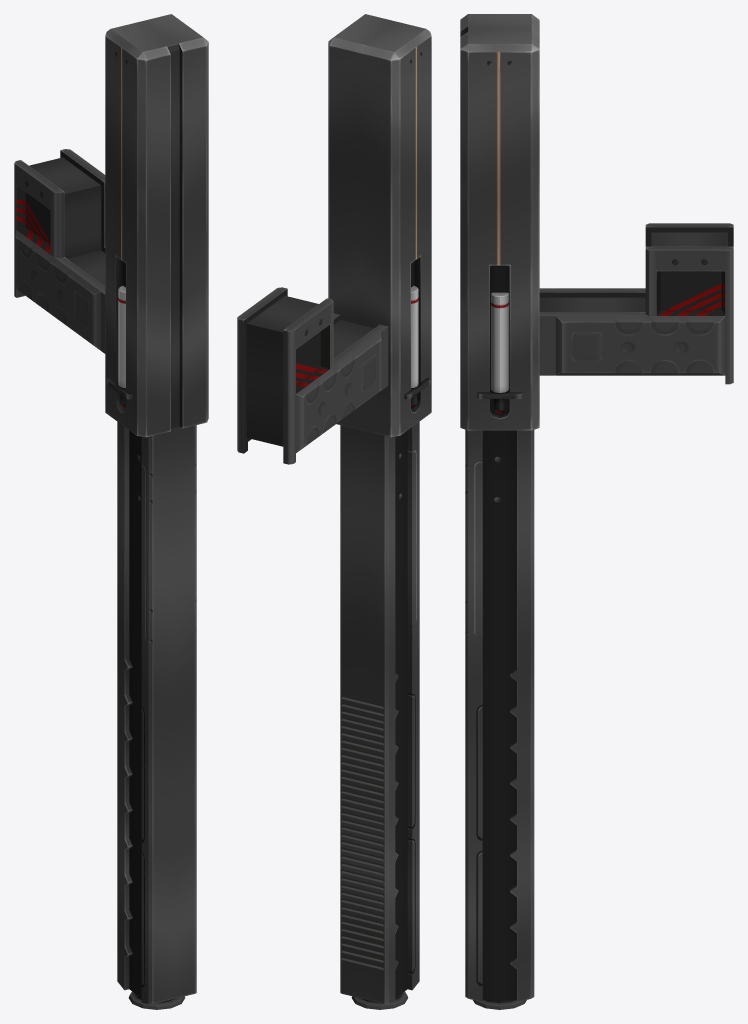
File: saria_weapon.fbx
3 views of the same model, side by side, from view 1: azimuth 30°, elevation 25°; view 2: azimuth 150°, elevation 25°; view 3: azimuth 270°, elevation 25° (orthographic).
Parts seen in each view (by area): view 1: weapon; view 2: weapon; view 3: weapon.
Boxes of the visible parts, x1,y1,x2,y2 form: weapon: [14, 14, 208, 1009]; weapon: [237, 14, 431, 1009]; weapon: [460, 14, 733, 1009].
Bounding box in the file's own units: 6.65 × 76.28 × 19.51.
